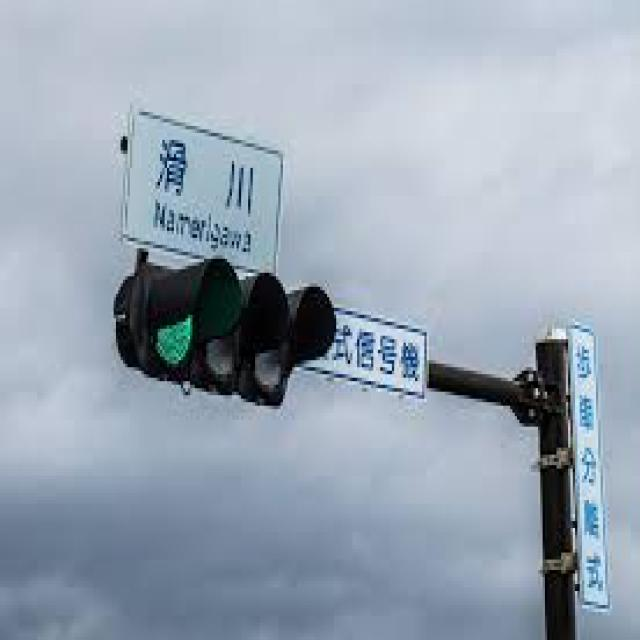Green_light: (133, 260, 316, 408)
